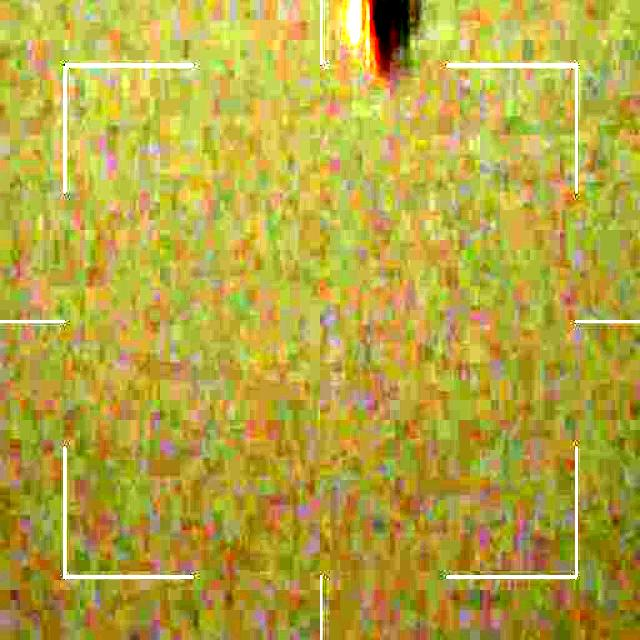bird: (339, 0, 435, 80)
